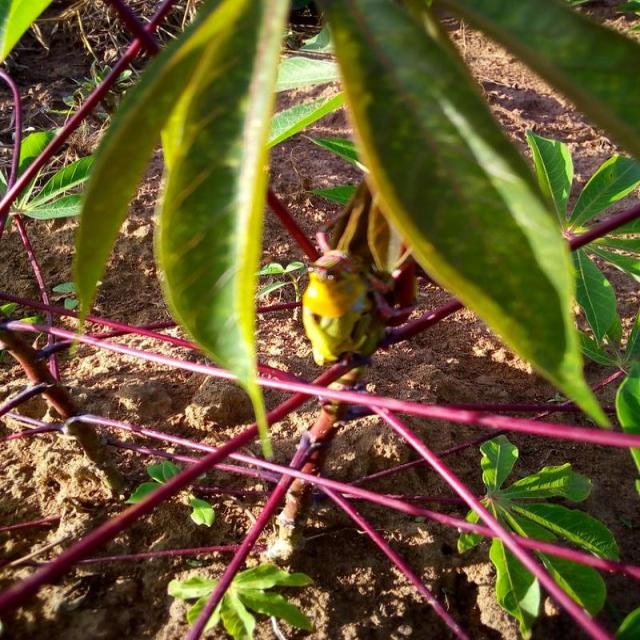cassava leaf: (320, 0, 618, 431), (71, 0, 292, 461)
